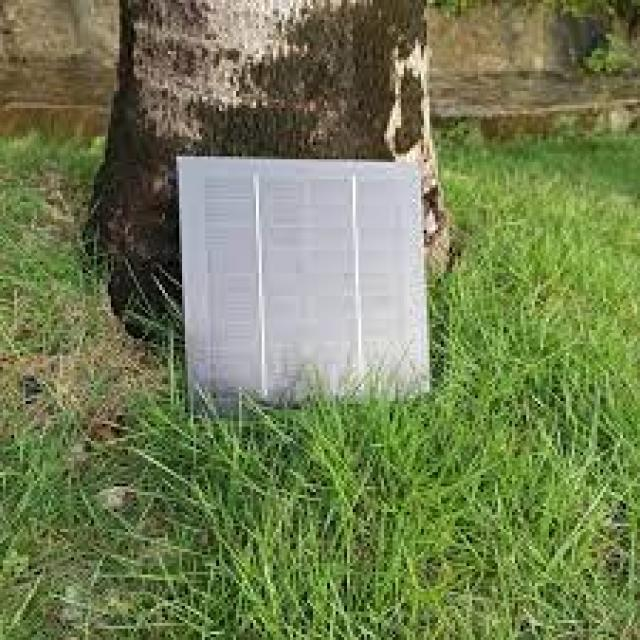faulty: (182, 170, 426, 408)
